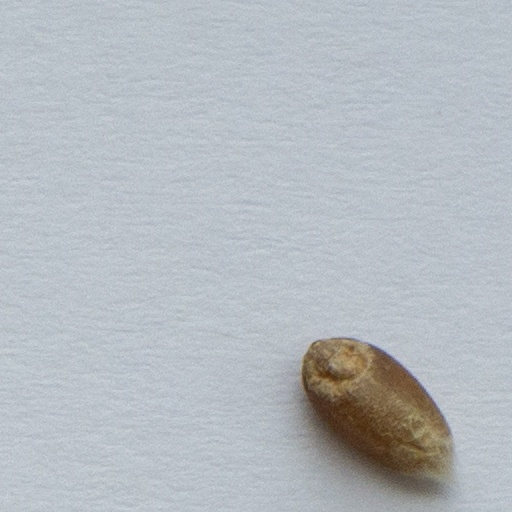Wheat-grain-poly: (303, 340, 449, 474)
